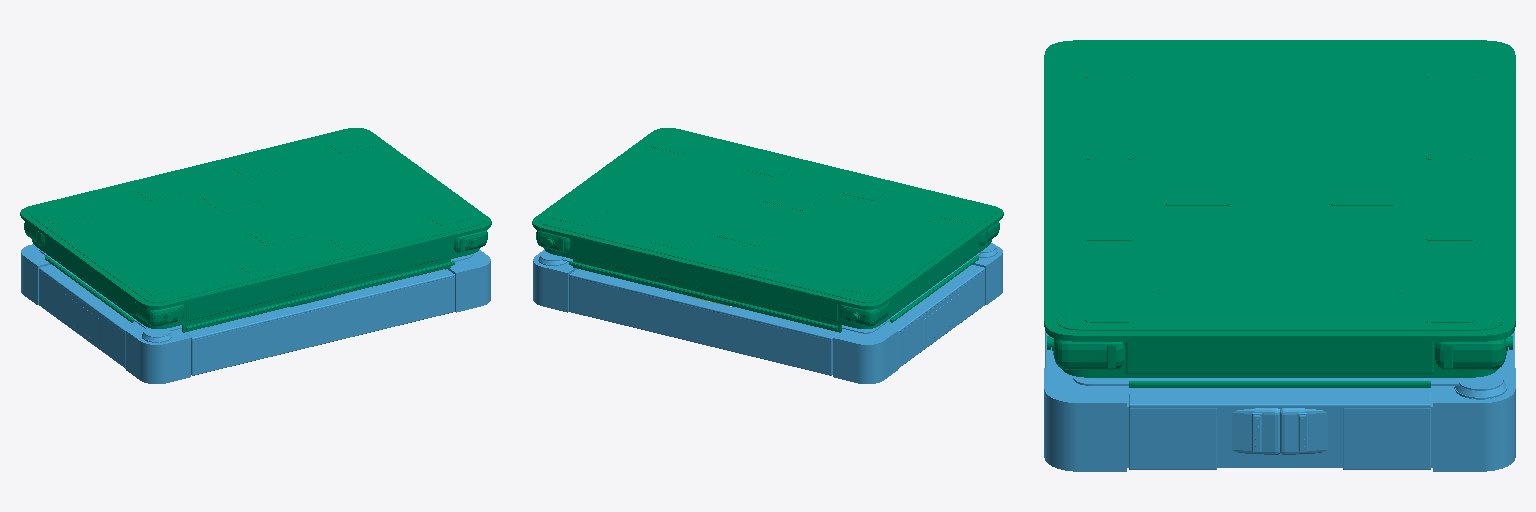
robot.urdf — mir1350_reference:
<?xml version="1.0"?>
<robot name="mir1350_reference">
<link name="base_footprint"></link>
<link name="base_link"><visual ><geometry ><mesh filename="../meshes/base_link.obj"/></geometry></visual><collision ><origin xyz="0 0 0.1095" rpy="0 0 0"/><geometry ><box size="1.35 0.91 0.165"/></geometry></collision></link>
<link name="top_cover"><visual ><geometry ><mesh filename="../meshes/top_cover.obj"/></geometry></visual><collision ><origin xyz="0 0 0.057" rpy="0 0 0"/><geometry ><box size="1.35 0.91 0.146"/></geometry></collision></link>
<link name="left_wheel_link"><visual ><geometry ><mesh filename="../meshes/left_wheel_link.obj"/></geometry></visual></link>
<link name="right_wheel_link"><visual ><geometry ><mesh filename="../meshes/right_wheel_link.obj"/></geometry></visual></link>
<link name="fl_caster_wheel_link"><visual ><geometry ><mesh filename="../meshes/fl_caster_wheel_link.obj"/></geometry></visual></link>
<link name="fr_caster_wheel_link"><visual ><geometry ><mesh filename="../meshes/fr_caster_wheel_link.obj"/></geometry></visual></link>
<link name="bl_caster_wheel_link"><visual ><geometry ><mesh filename="../meshes/bl_caster_wheel_link.obj"/></geometry></visual></link>
<link name="br_caster_wheel_link"><visual ><geometry ><mesh filename="../meshes/br_caster_wheel_link.obj"/></geometry></visual></link>
<link name="deck"></link>
<link name="cover_top"></link>
<joint name="base_link_joint" type="fixed"><parent link="base_footprint"/><child link="base_link"/><origin xyz="0 0 0" rpy="0 0 0"/></joint>
<joint name="top_cover_joint" type="fixed"><parent link="base_link"/><child link="top_cover"/><origin xyz="0 0 0.192" rpy="0 0 0"/></joint>
<joint name="left_wheel_link_joint" type="continuous"><parent link="base_link"/><child link="left_wheel_link"/><origin xyz="0 0.36 0.1" rpy="0 0 0"/><axis xyz="0 1 0"/><limit effort="100" velocity="12"/></joint>
<joint name="right_wheel_link_joint" type="continuous"><parent link="base_link"/><child link="right_wheel_link"/><origin xyz="0 -0.36 0.1" rpy="0 0 0"/><axis xyz="0 1 0"/><limit effort="100" velocity="12"/></joint>
<joint name="fl_caster_wheel_link_joint" type="continuous"><parent link="base_link"/><child link="fl_caster_wheel_link"/><origin xyz="0.52 0.33 0.05" rpy="0 0 0"/><axis xyz="0 1 0"/><limit effort="100" velocity="12"/></joint>
<joint name="fr_caster_wheel_link_joint" type="continuous"><parent link="base_link"/><child link="fr_caster_wheel_link"/><origin xyz="0.52 -0.33 0.05" rpy="0 0 0"/><axis xyz="0 1 0"/><limit effort="100" velocity="12"/></joint>
<joint name="bl_caster_wheel_link_joint" type="continuous"><parent link="base_link"/><child link="bl_caster_wheel_link"/><origin xyz="-0.52 0.33 0.05" rpy="0 0 0"/><axis xyz="0 1 0"/><limit effort="100" velocity="12"/></joint>
<joint name="br_caster_wheel_link_joint" type="continuous"><parent link="base_link"/><child link="br_caster_wheel_link"/><origin xyz="-0.52 -0.33 0.05" rpy="0 0 0"/><axis xyz="0 1 0"/><limit effort="100" velocity="12"/></joint>
<joint name="deck_joint" type="fixed"><parent link="base_link"/><child link="deck"/><origin xyz="0 0 0.192" rpy="0 0 0"/></joint>
<joint name="cover_top_joint" type="fixed"><parent link="base_link"/><child link="cover_top"/><origin xyz="0 0 0.322" rpy="0 0 0"/></joint>
</robot>

--- Facts derived from the render (not from the file) ---
Views: 3 orthographic renders of the robot side by side, from view 1: azimuth 30°, elevation 25°; view 2: azimuth 150°, elevation 25°; view 3: azimuth 270°, elevation 25°.
Model mir1350_reference with 11 links and 10 joints (6 continuous, 4 fixed), rooted at base_footprint, posed every joint at zero.
Links seen in each view (by area): view 1: top_cover, base_link; view 2: top_cover, base_link; view 3: top_cover, base_link.
Boxes of the visible links, bbox=[...] form: top_cover: bbox=[20, 128, 491, 332]; base_link: bbox=[21, 244, 490, 383]; top_cover: bbox=[532, 128, 1003, 332]; base_link: bbox=[533, 243, 1002, 383]; top_cover: bbox=[1044, 40, 1515, 387]; base_link: bbox=[1044, 331, 1515, 471].
Bounding box of the posed robot: 1.35 × 0.91 × 0.322 m (x, y, z).
8 mesh visuals loaded from 8 distinct referenced files (8 OBJ).
